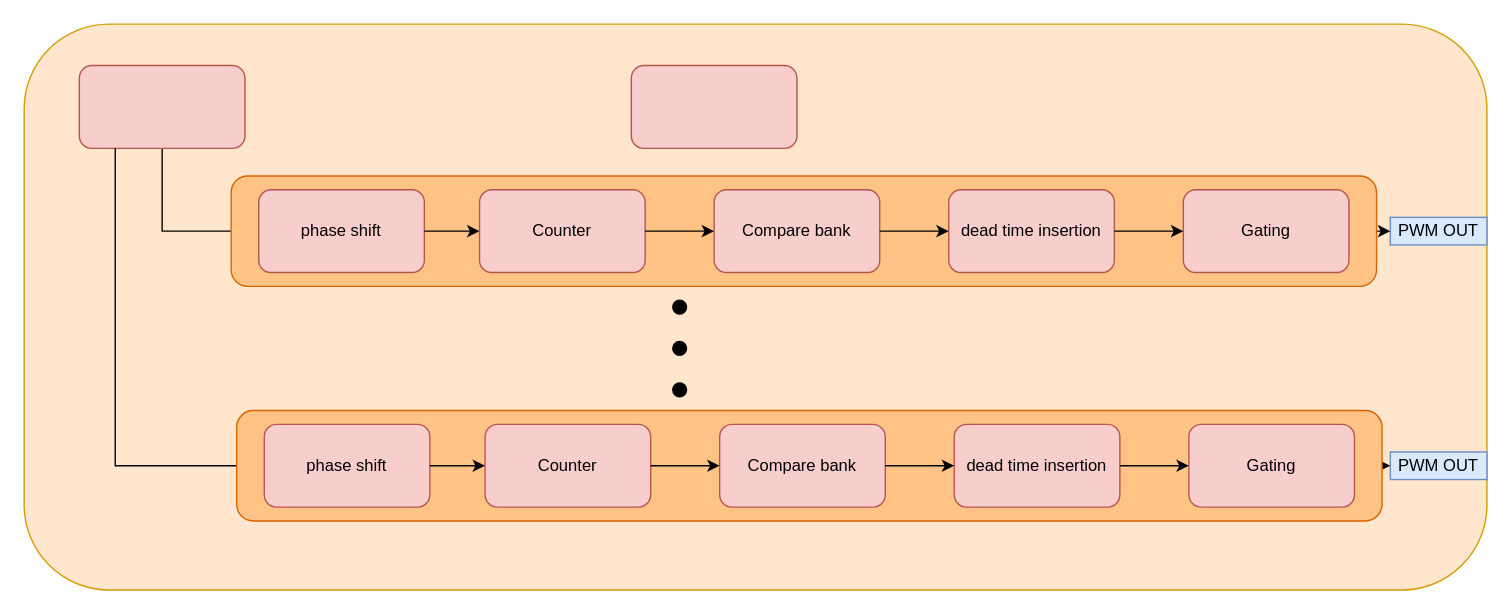
Image size: 1511x614. Some labels were removed from this diagram. The box of each missing label's shape, as (x1, y1, x2, y2) in pixels:
Control unit: (630, 64, 797, 148)
Timebase Generator: (78, 64, 245, 148)
